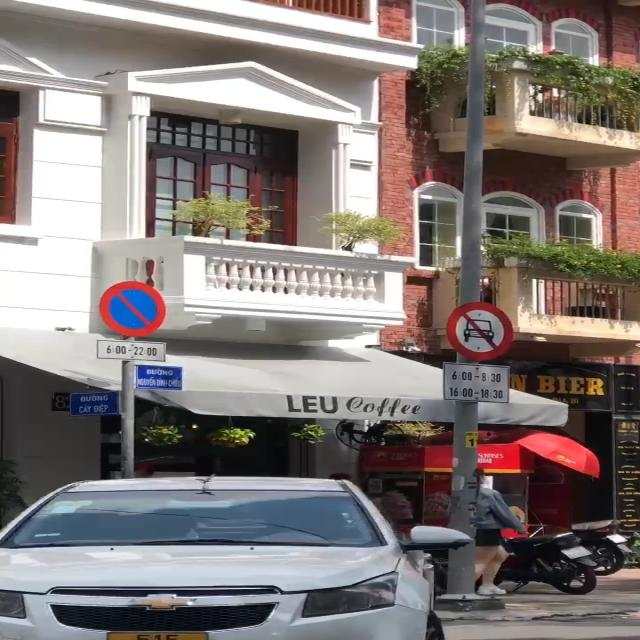Bien bao cam do xe: (97, 277, 170, 340)
Bien bao cam xe oto: (442, 300, 523, 362)
